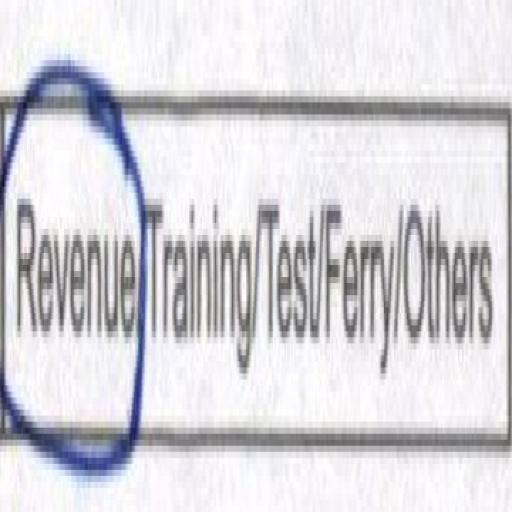check: (0, 33, 143, 512)
